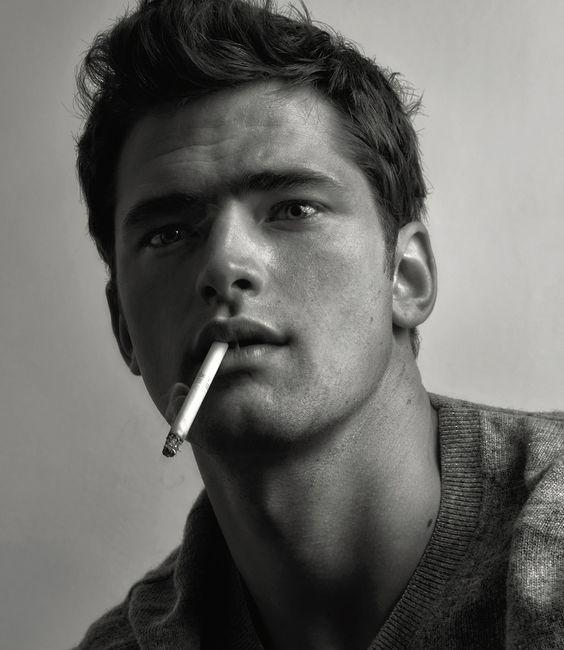cigarette: (163, 342, 230, 460)
